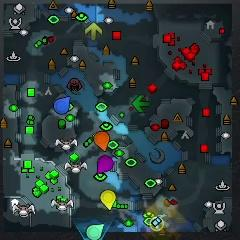Other: (149, 217, 164, 230)
p1: (54, 96, 70, 114)
p2: (86, 223, 103, 240)
p3: (97, 156, 113, 174)
p4: (100, 189, 116, 209)
p5: (95, 131, 110, 151)
x2: (86, 22, 102, 39)
x3: (155, 213, 170, 228)
x4: (132, 94, 150, 111)
